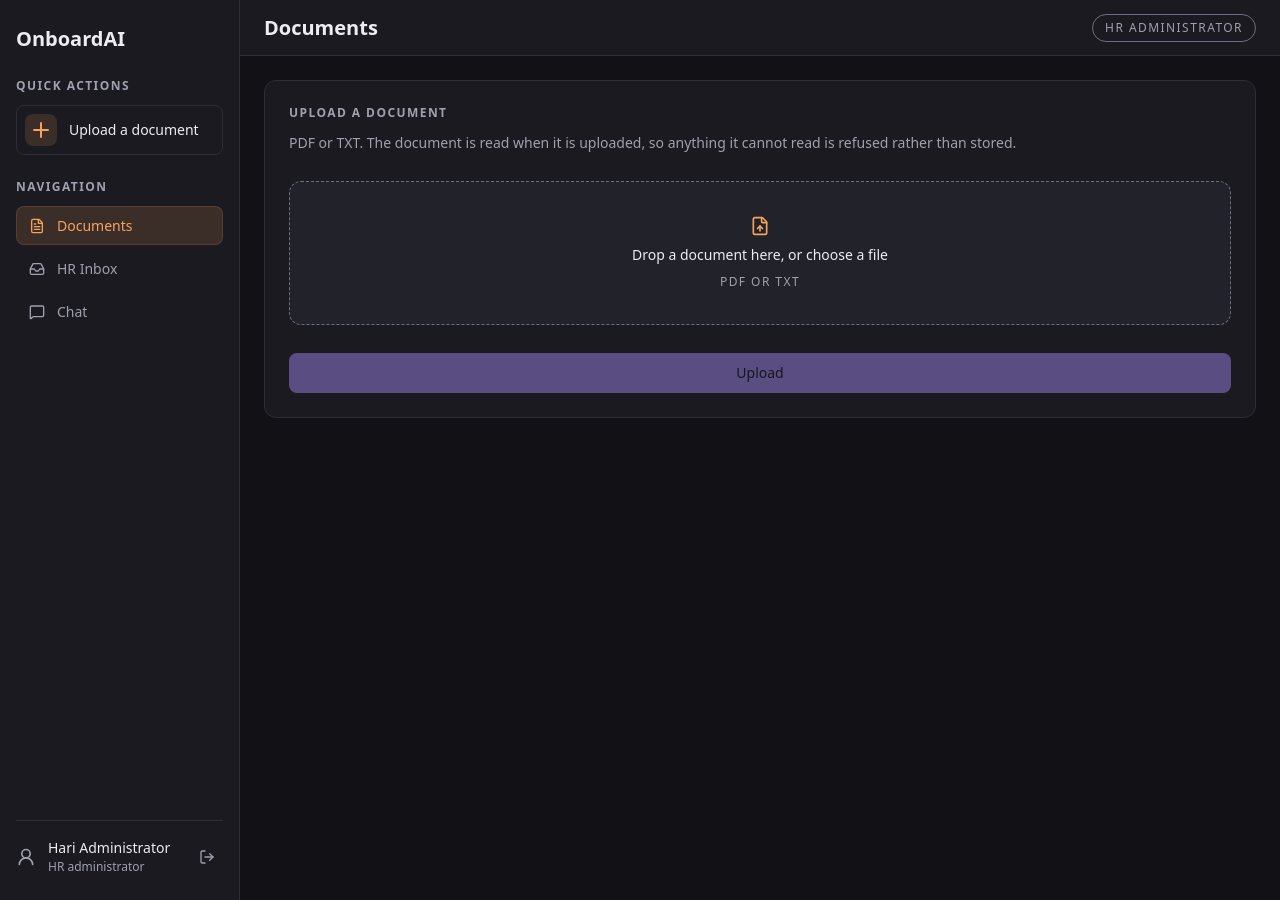
Scenario: the keyboard › marks the active link, and only the active link
This screenshot has width=1280, height=900.
Click the link "Chat" at (58, 312), box 29,302 -> 87,321
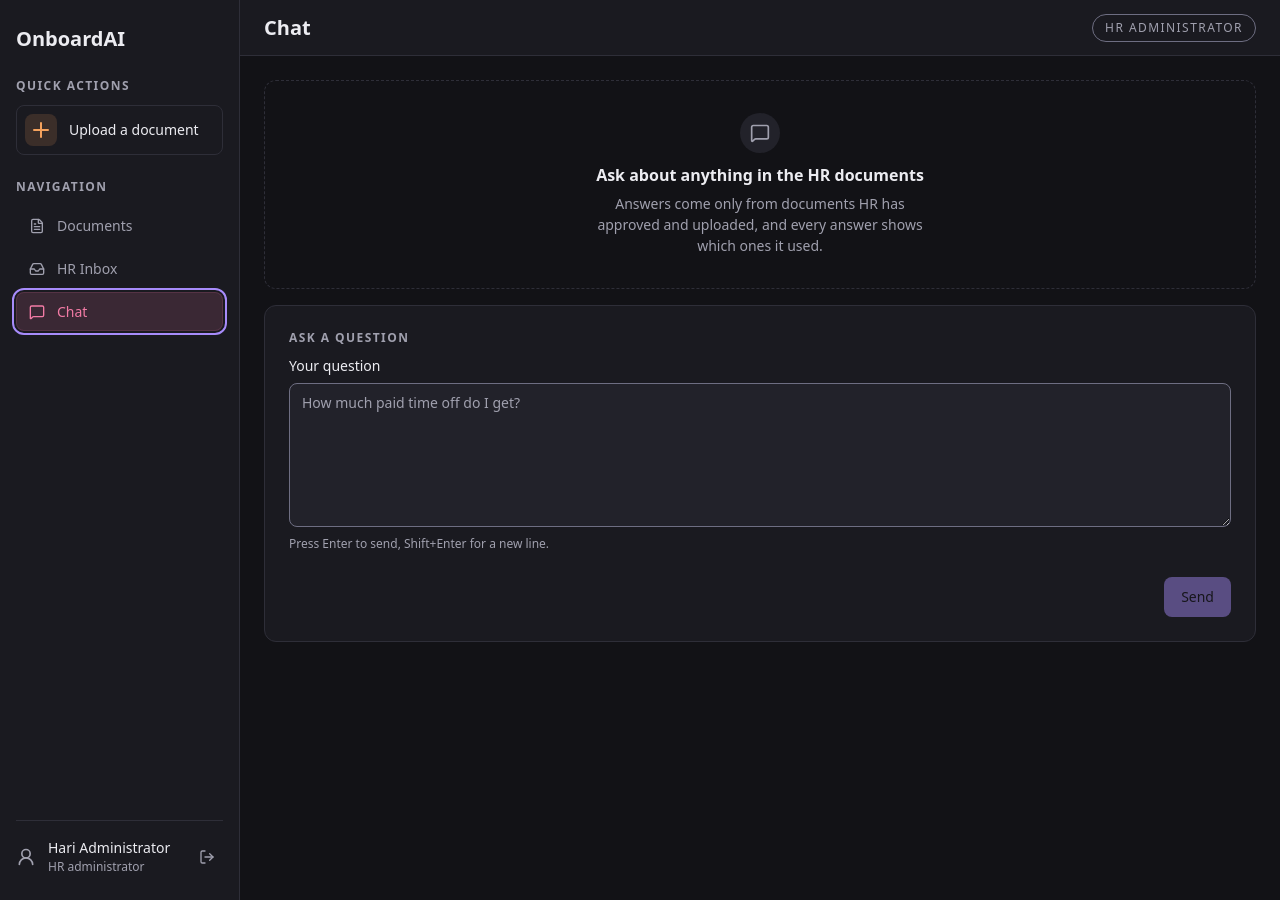
Check: the link "Chat" is marked as current, box 16,292 -> 223,331
Check: the link "Documents" does not have attribute aria-current, box 29,216 -> 132,235
